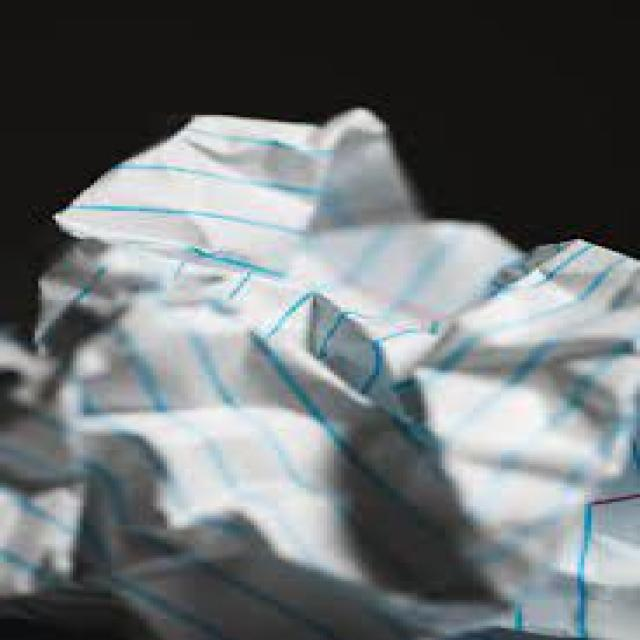Paper -Biodegradable-: (0, 107, 640, 637)
